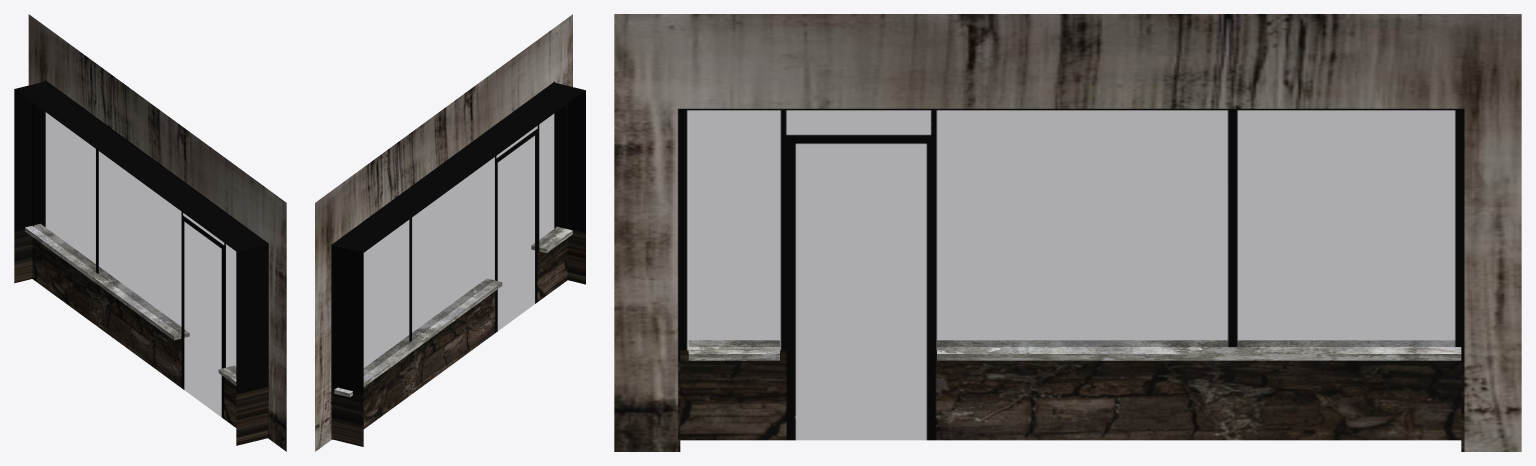
Rendered from pharmacy_storefront.glb.
The picture shows the model from 3 angles, left to right: view 1: azimuth 30°, elevation 25°; view 2: azimuth 150°, elevation 25°; view 3: azimuth 270°, elevation 25°; orthographic projection. The views are drawn at different scales.
Parts seen in each view (by area): view 1: Cube, Cube.001; view 2: Cube, Cube.001; view 3: Cube, Cube.001.
Boxes of the visible parts, x1,y1,x2,y2 form: Cube: (14, 14, 286, 451); Cube.001: (25, 223, 236, 385); Cube: (315, 14, 585, 451); Cube.001: (334, 226, 572, 397); Cube: (614, 14, 1521, 451); Cube.001: (688, 340, 1461, 360).
Bounding box in the file's own units: 0.6139 × 4.64 × 8.7.
Materials: 1 (1 with a texture image).
